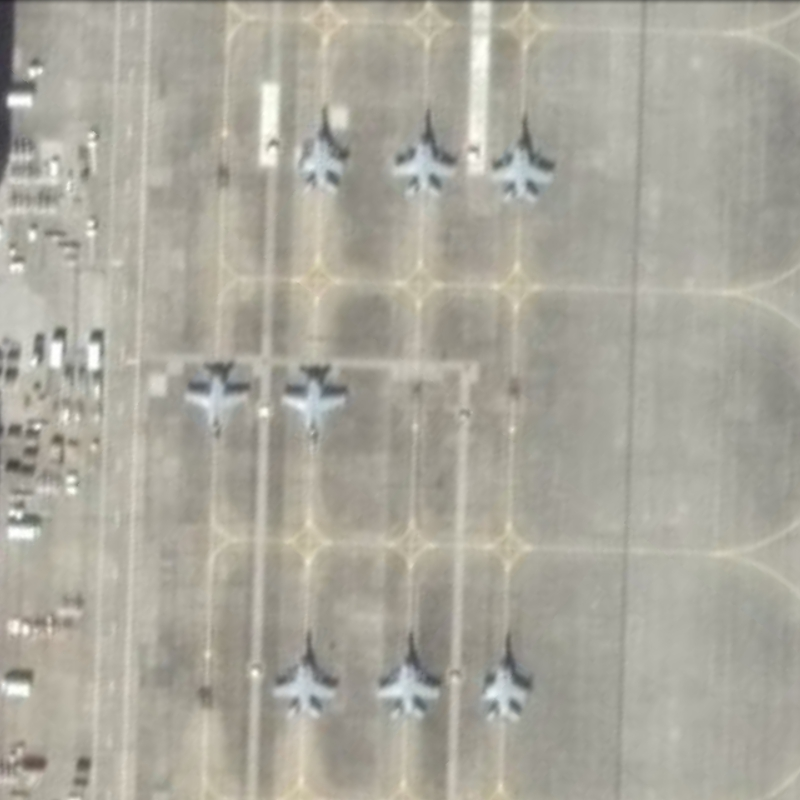A16: (271, 356, 354, 459), (265, 627, 347, 725), (369, 626, 447, 728), (181, 356, 256, 455), (482, 111, 560, 206), (387, 107, 459, 205), (468, 628, 537, 730), (290, 103, 355, 200)
